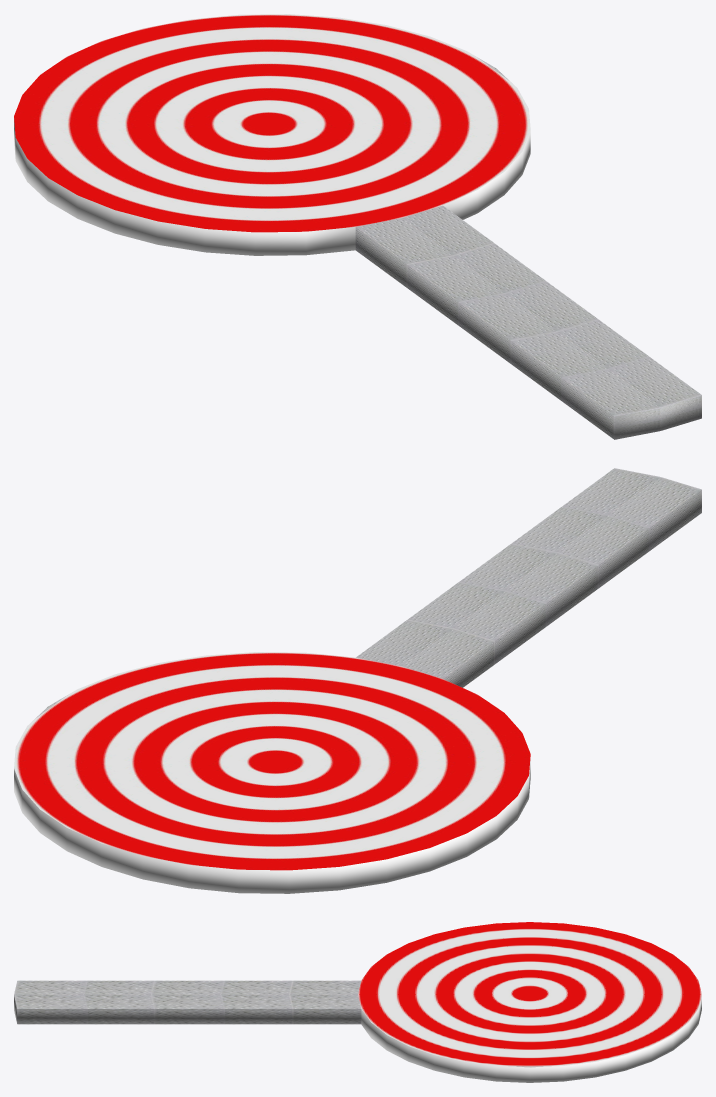
The model's file is lolipop.obj.
The picture shows the model from 3 angles, top to bottom: view 1: azimuth 30°, elevation 25°; view 2: azimuth 150°, elevation 25°; view 3: azimuth 270°, elevation 25°; orthographic projection. The views are drawn at different scales.
Visible parts, largest first — view 1: Circle_Circle_Material_lolipop.jpg; view 2: Circle_Circle_Material_lolipop.jpg; view 3: Circle_Circle_Material_lolipop.jpg.
Part boxes in pixels (x1,y1,x2,y2): Circle_Circle_Material_lolipop.jpg: (14, 14, 701, 439); Circle_Circle_Material_lolipop.jpg: (14, 468, 701, 893); Circle_Circle_Material_lolipop.jpg: (14, 922, 701, 1082).
Bounding box in the file's own units: 18 × 0.9 × 36.
1 material, 1 textured.
